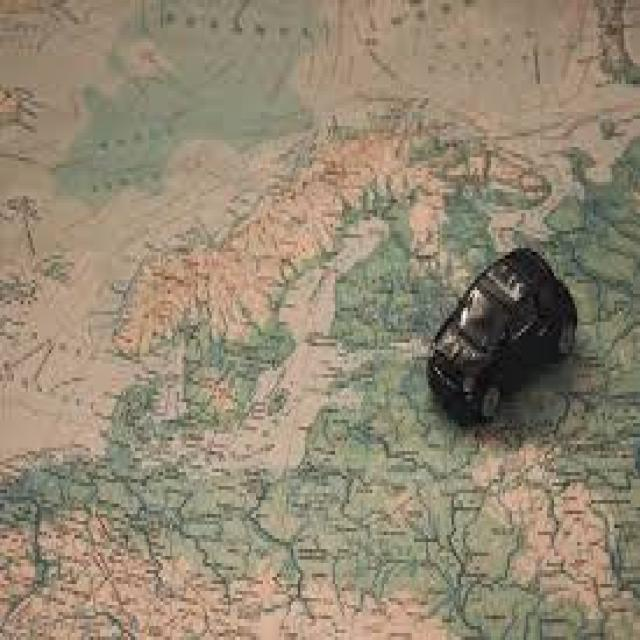Car: (426, 244, 577, 426)
